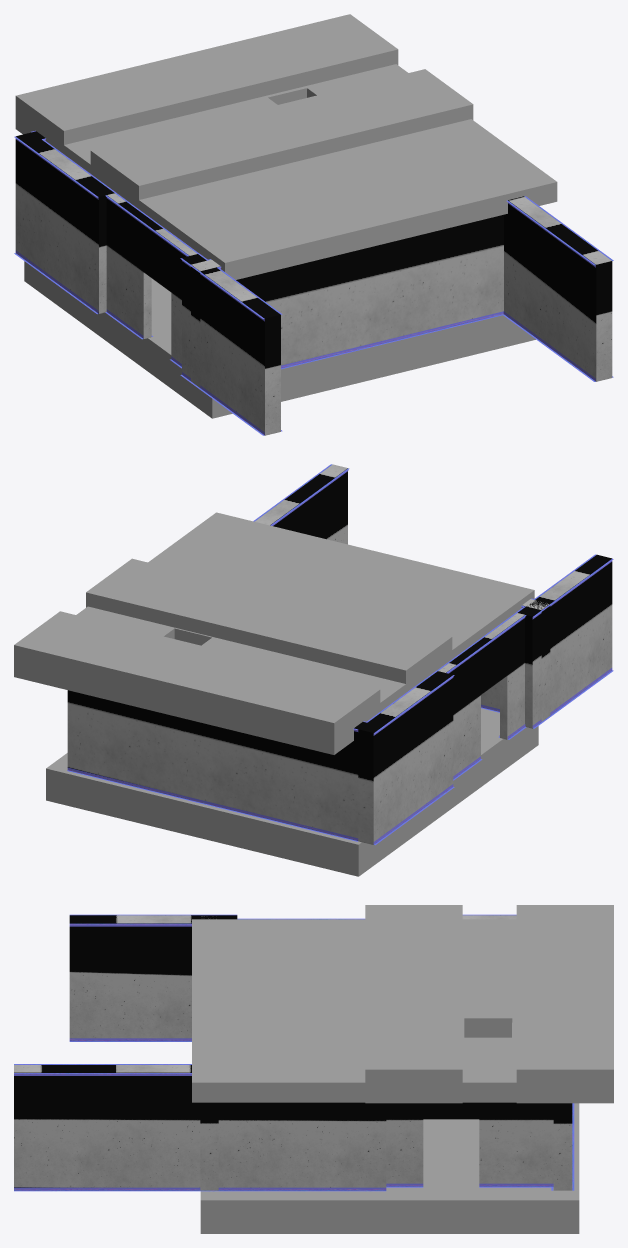
File: SM_DropDownRoom.fbx
3 views of the same model, one above another, from view 1: azimuth 30°, elevation 25°; view 2: azimuth 150°, elevation 25°; view 3: azimuth 270°, elevation 25° (orthographic). The views are drawn at different scales.
Visible parts, largest first — view 1: DropDownRoof3, SM_Wall_01a95, DropDownRoof1, DropDownRoof2, SM_Wall_01a94, Floor19, SM_Wall_01a92, SM_Wall_01a96, SM_SingleDoor_01a9; view 2: DropDownRoof3, DropDownRoof1, SM_Wall_01a93, DropDownRoof2, Floor19, SM_Wall_01a92, SM_Wall_01a96, SM_SingleDoor_01a9, SM_Wall_01a94, SM_Wall_01a95; view 3: DropDownRoof3, SM_Wall_01a94, Floor19, DropDownRoof2, DropDownRoof1, SM_Wall_01a96, SM_SingleDoor_01a15, SM_Wall_01a93, SM_Wall_01a95.
Boxes of the visible parts, box(x1,y1,x2,y2) form: DropDownRoof3: box(64, 64, 557, 279); SM_Wall_01a95: box(191, 214, 504, 387); DropDownRoof1: box(15, 14, 398, 153); DropDownRoof2: box(90, 69, 473, 208); SM_Wall_01a94: box(503, 196, 613, 381); Floor19: box(24, 261, 535, 418); SM_Wall_01a92: box(14, 132, 116, 314); SM_Wall_01a96: box(180, 253, 282, 435); SM_SingleDoor_01a9: box(105, 193, 199, 368); DropDownRoof3: box(76, 512, 534, 711); DropDownRoof1: box(14, 611, 380, 754); SM_Wall_01a93: box(67, 690, 367, 841); DropDownRoof2: box(86, 558, 452, 692); Floor19: box(46, 708, 538, 876); SM_Wall_01a92: box(358, 671, 454, 845); SM_Wall_01a96: box(516, 554, 613, 728); SM_SingleDoor_01a9: box(436, 613, 526, 780); SM_Wall_01a94: box(253, 464, 349, 544); SM_Wall_01a95: box(481, 598, 550, 721); DropDownRoof3: box(192, 919, 516, 1102); SM_Wall_01a94: box(14, 1064, 386, 1191); Floor19: box(200, 1103, 579, 1233); DropDownRoof2: box(365, 905, 462, 1103); DropDownRoof1: box(516, 905, 613, 1103); SM_Wall_01a96: box(69, 914, 237, 1041); SM_SingleDoor_01a15: box(386, 1102, 553, 1187); SM_Wall_01a93: box(551, 1103, 574, 1190); SM_Wall_01a95: box(200, 916, 218, 1190).
Size of the model in its own units: 1116 by 511 by 1612.
